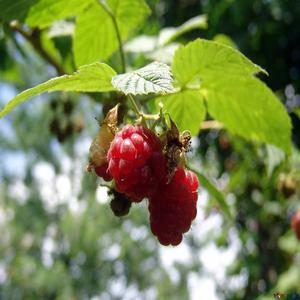raspb: (86, 119, 205, 250)
